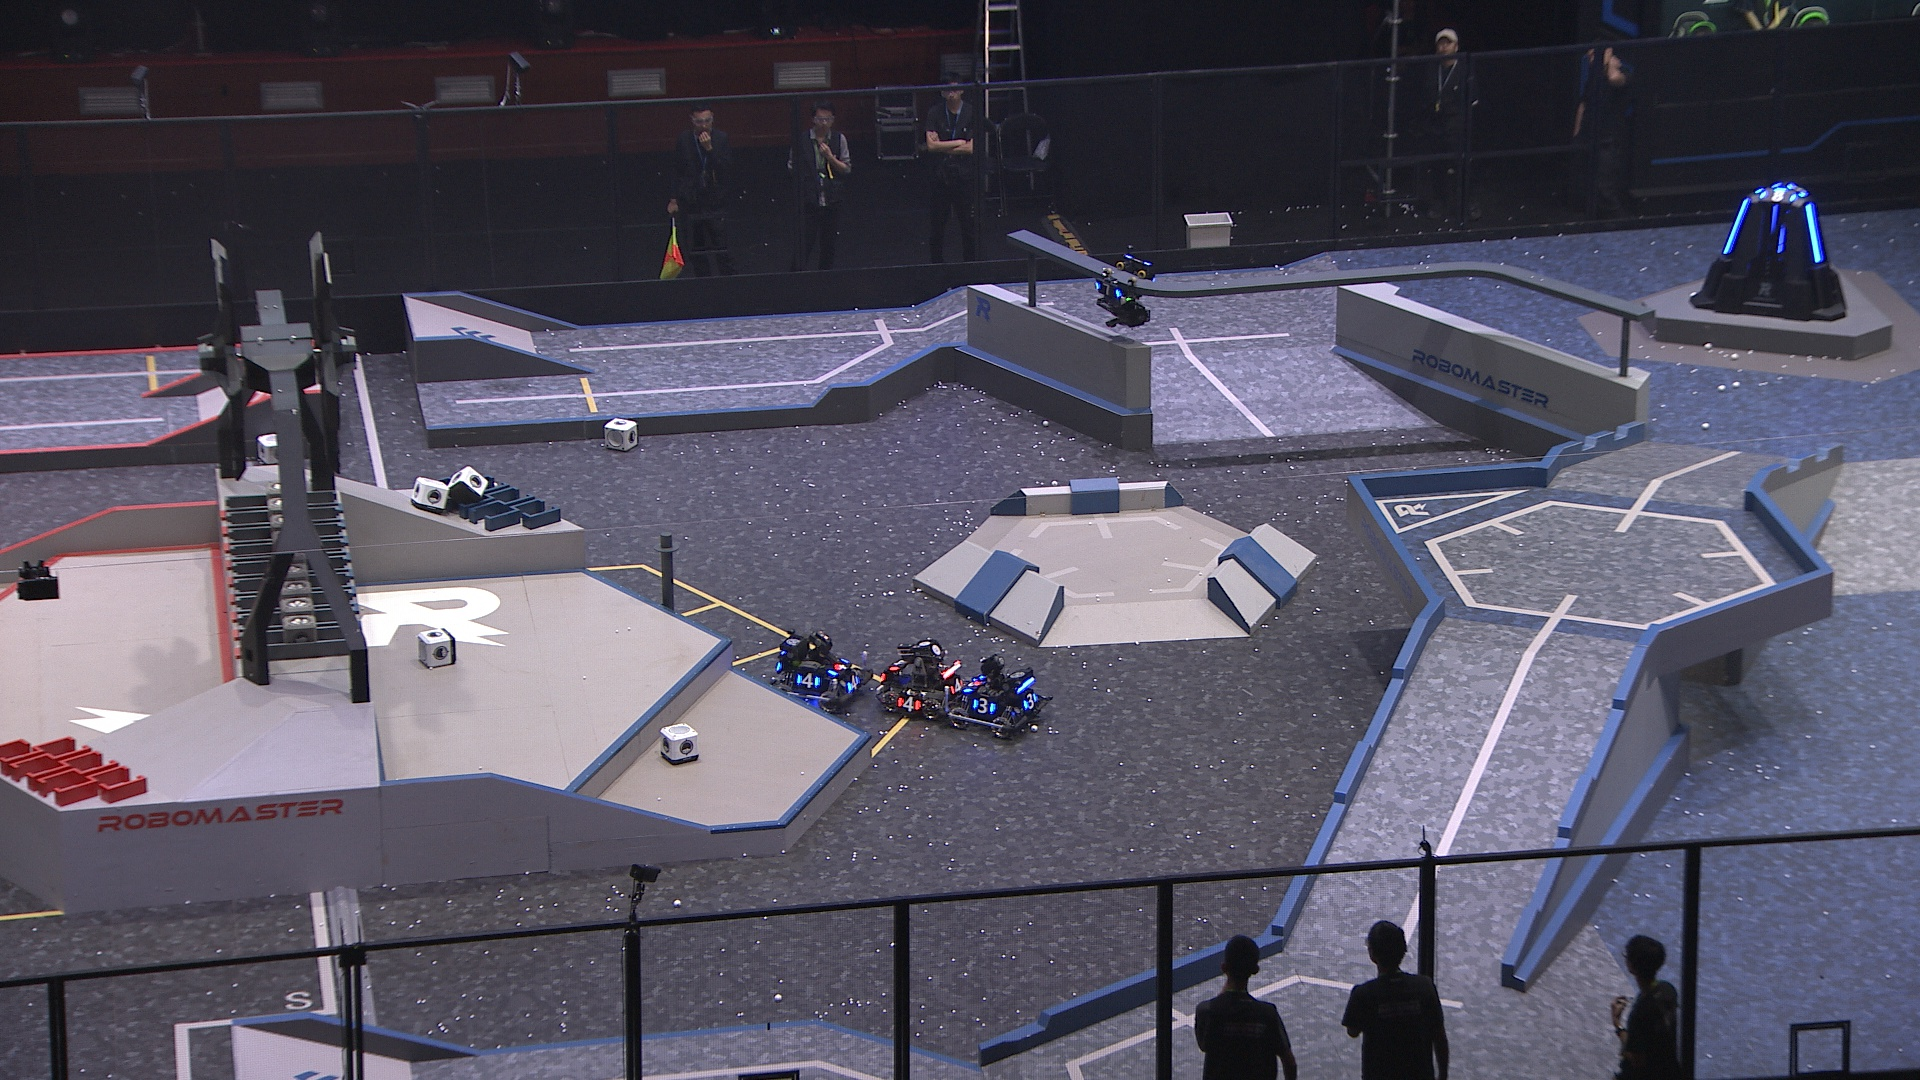armor: (1721, 194, 1753, 256), (1803, 202, 1822, 264), (1756, 186, 1799, 202), (1093, 281, 1121, 302), (971, 695, 998, 713), (887, 651, 909, 675), (1768, 200, 1780, 239), (793, 673, 822, 687), (895, 698, 922, 712), (844, 674, 862, 694), (964, 675, 984, 694), (1021, 692, 1039, 712), (948, 678, 965, 698), (831, 654, 847, 673)
base: (1691, 177, 1847, 323)
car: (942, 650, 1054, 742), (761, 626, 874, 716), (872, 632, 969, 725)
watcher: (1091, 247, 1158, 330)
